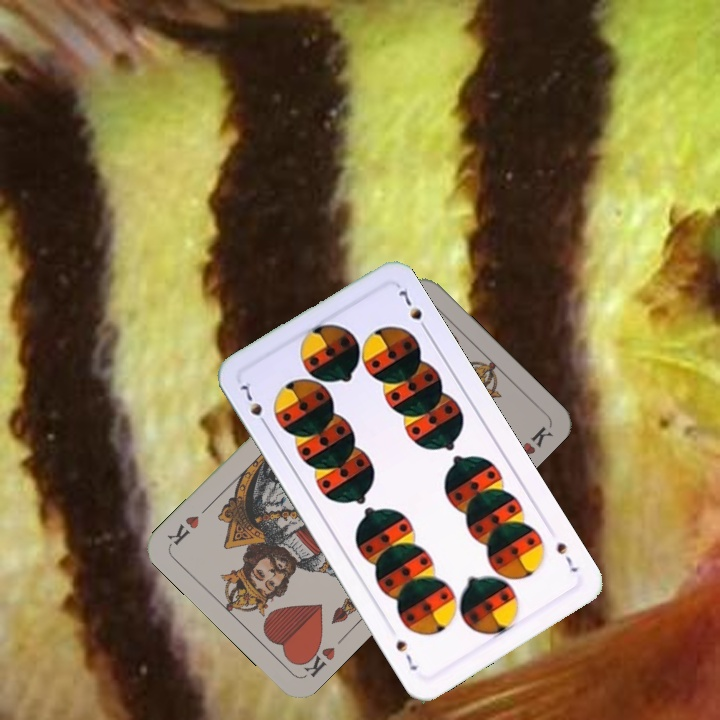HK: (294, 637, 338, 680)
S7: (236, 378, 272, 431), (552, 538, 581, 575)
